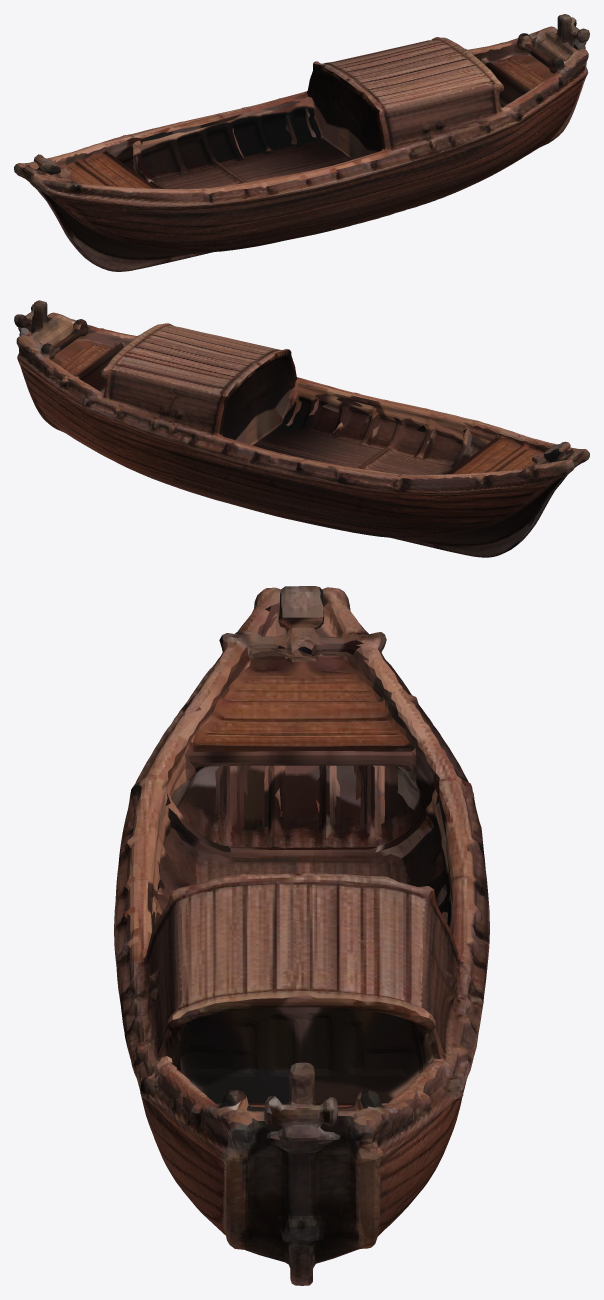
Rendered from traveler_env_coast_cakon_river_barge_00001_.glb.
3 renders of one model, top to bottom at view 1: azimuth 30°, elevation 25°; view 2: azimuth 150°, elevation 25°; view 3: azimuth 270°, elevation 25°, orthographic. The views are drawn at different scales.
Parts seen in each view (by area): view 1: temp_mesh.ply; view 2: temp_mesh.ply; view 3: temp_mesh.ply.
Boxes of the visible parts, box(x1,y1,x2,y2) form: temp_mesh.ply: box(14, 14, 589, 271); temp_mesh.ply: box(14, 300, 589, 557); temp_mesh.ply: box(114, 586, 489, 1285).
Size of the model in its own units: 1.97 by 0.5019 by 0.5746.
Materials: 1 (1 with a texture image).
